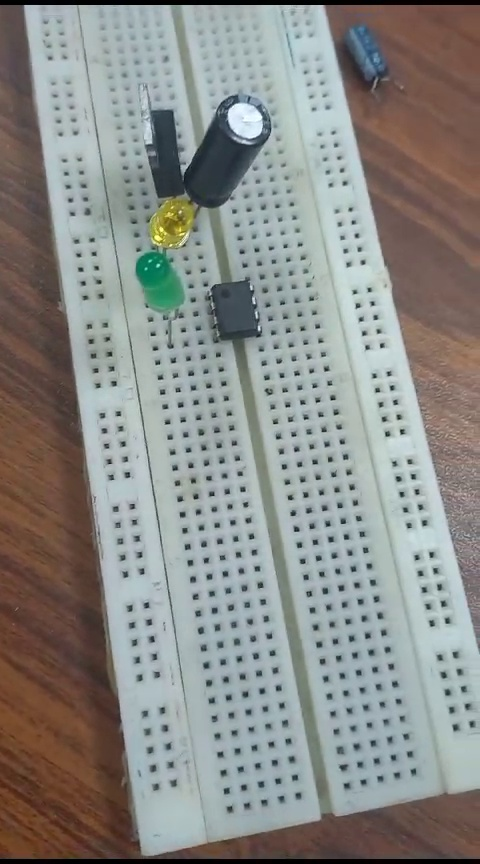IC: (202, 277, 263, 345)
LED: (132, 249, 190, 339), (162, 193, 198, 257)
capacitor: (195, 87, 270, 224), (336, 20, 403, 93)
voltage regulator: (124, 75, 188, 205)
